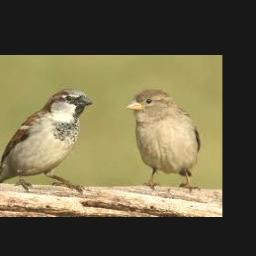Sparrow: (0, 88, 92, 192), (125, 89, 201, 193)
